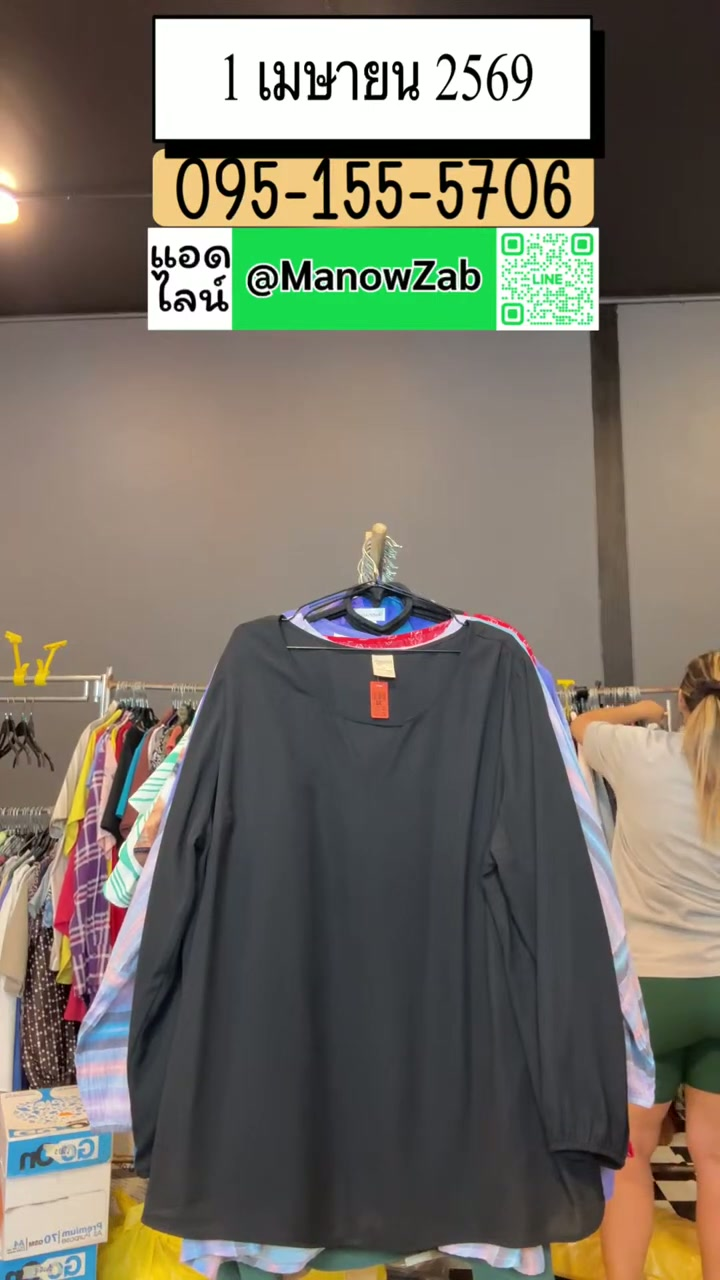display_shirt: (117, 608, 651, 1279), (121, 607, 650, 1279)
